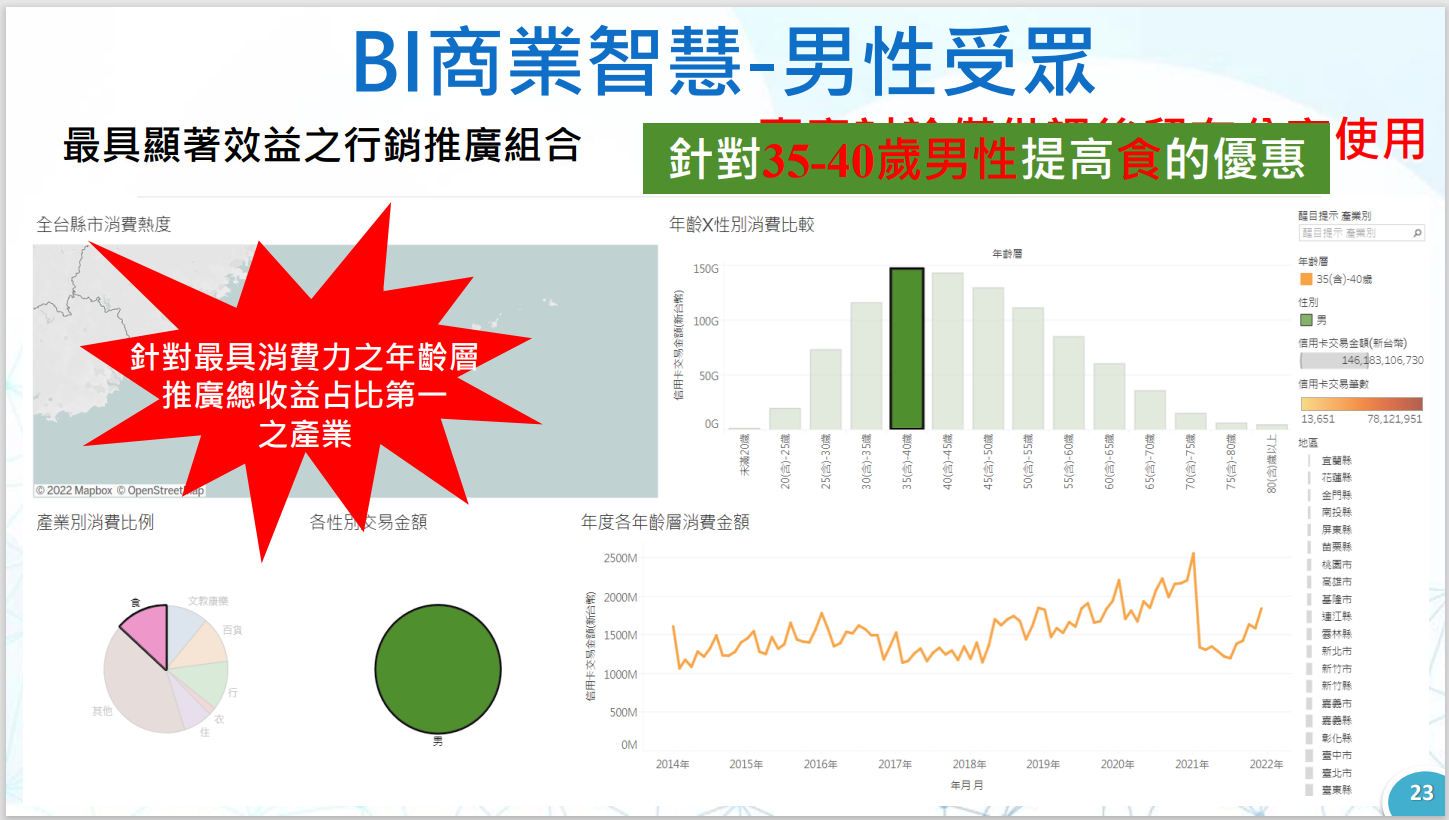

What the dashboard file says about the page in this screenshot:
{"tool":"tableau","page":{"name":"儀表板窗格 1","canvas":[1000,1000],"units":"permille","ordinal":0},"visuals":[{"type":"worksheet","title":"全台縣市消費熱度","mark":"Multipolygon","box":[4.8,9.4,446.9,490.6]},{"type":"worksheet","title":"年齡X性別消費比較","mark":"Automatic","rows":["信用卡交易金額(新台幣)"],"cols":["年齡層"],"box":[451.7,9.4,446.9,490.6]},{"type":"highlighter","title":"產業別消費比例","param":"[federated.0g2oetc1v2s88r16os5ns0wi0wuw].[none:產業別:nk]","box":[898.6,9.4,96.6,65.7]},{"type":"legend","title":"年度各年齡層消費金額","param":"[federated.0g2oetc1v2s88r16os5ns0wi0wuw].[none:年齡層:nk]","box":[898.6,75.1,96.6,342.7]},{"type":"legend","title":"年齡X性別消費比較","param":"[federated.0g2oetc1v2s88r16os5ns0wi0wuw].[none:性別:nk]","box":[898.6,417.8,96.6,84.5]},{"type":"worksheet","title":"產業別消費比例","mark":"Pie","box":[4.8,500,192.8,490.6]},{"type":"worksheet","title":"各性別交易金額","mark":"Pie","box":[197.6,500,192.2,490.6]},{"type":"worksheet","title":"年度各年齡層消費金額","mark":"Automatic","rows":["信用卡交易金額(新台幣)"],"cols":["年月"],"box":[389.8,500,508.8,490.6]},{"type":"legend","title":"各性別交易金額","param":"[federated.0g2oetc1v2s88r16os5ns0wi0wuw].[sum:信用卡交易金額(新台幣):qk]","box":[898.6,502.4,96.6,59.9]},{"type":"legend","title":"全台縣市消費熱度","param":"[federated.0g2oetc1v2s88r16os5ns0wi0wuw].[sum:信用卡交易金額(新台幣):qk]","box":[898.6,562.2,96.6,85.7]},{"type":"legend","title":"全台縣市消費熱度","param":"[federated.0g2oetc1v2s88r16os5ns0wi0wuw].[none:地區:nk]","box":[898.6,647.9,96.6,342.7]}]}

Visuals, with their boxes on the dashboard's canvas, which has no fixed pixel size, in thousandths of its width and height (x1, y1, x2, y2). These are canvas units, not pixel positions in the 1449x820 screenshot, which may show the page scaled, cropped or inside an application window:
"全台縣市消費熱度" worksheet (Multipolygon marks): [left=5, top=9, right=452, bottom=500]
"年齡X性別消費比較" worksheet: [left=452, top=9, right=899, bottom=500]
"產業別消費比例" highlighter: [left=899, top=9, right=995, bottom=75]
"年度各年齡層消費金額" legend: [left=899, top=75, right=995, bottom=418]
"年齡X性別消費比較" legend: [left=899, top=418, right=995, bottom=502]
"產業別消費比例" worksheet (Pie marks): [left=5, top=500, right=198, bottom=991]
"各性別交易金額" worksheet (Pie marks): [left=198, top=500, right=390, bottom=991]
"年度各年齡層消費金額" worksheet: [left=390, top=500, right=899, bottom=991]
"各性別交易金額" legend: [left=899, top=502, right=995, bottom=562]
"全台縣市消費熱度" legend: [left=899, top=562, right=995, bottom=648]
"全台縣市消費熱度" legend: [left=899, top=648, right=995, bottom=991]
